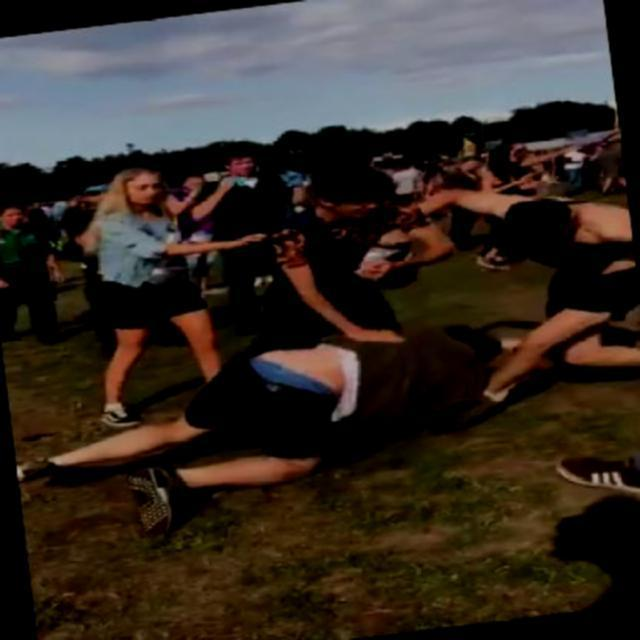fight: (378, 164, 638, 436)
non-fight: (254, 156, 456, 352), (66, 156, 222, 389)
